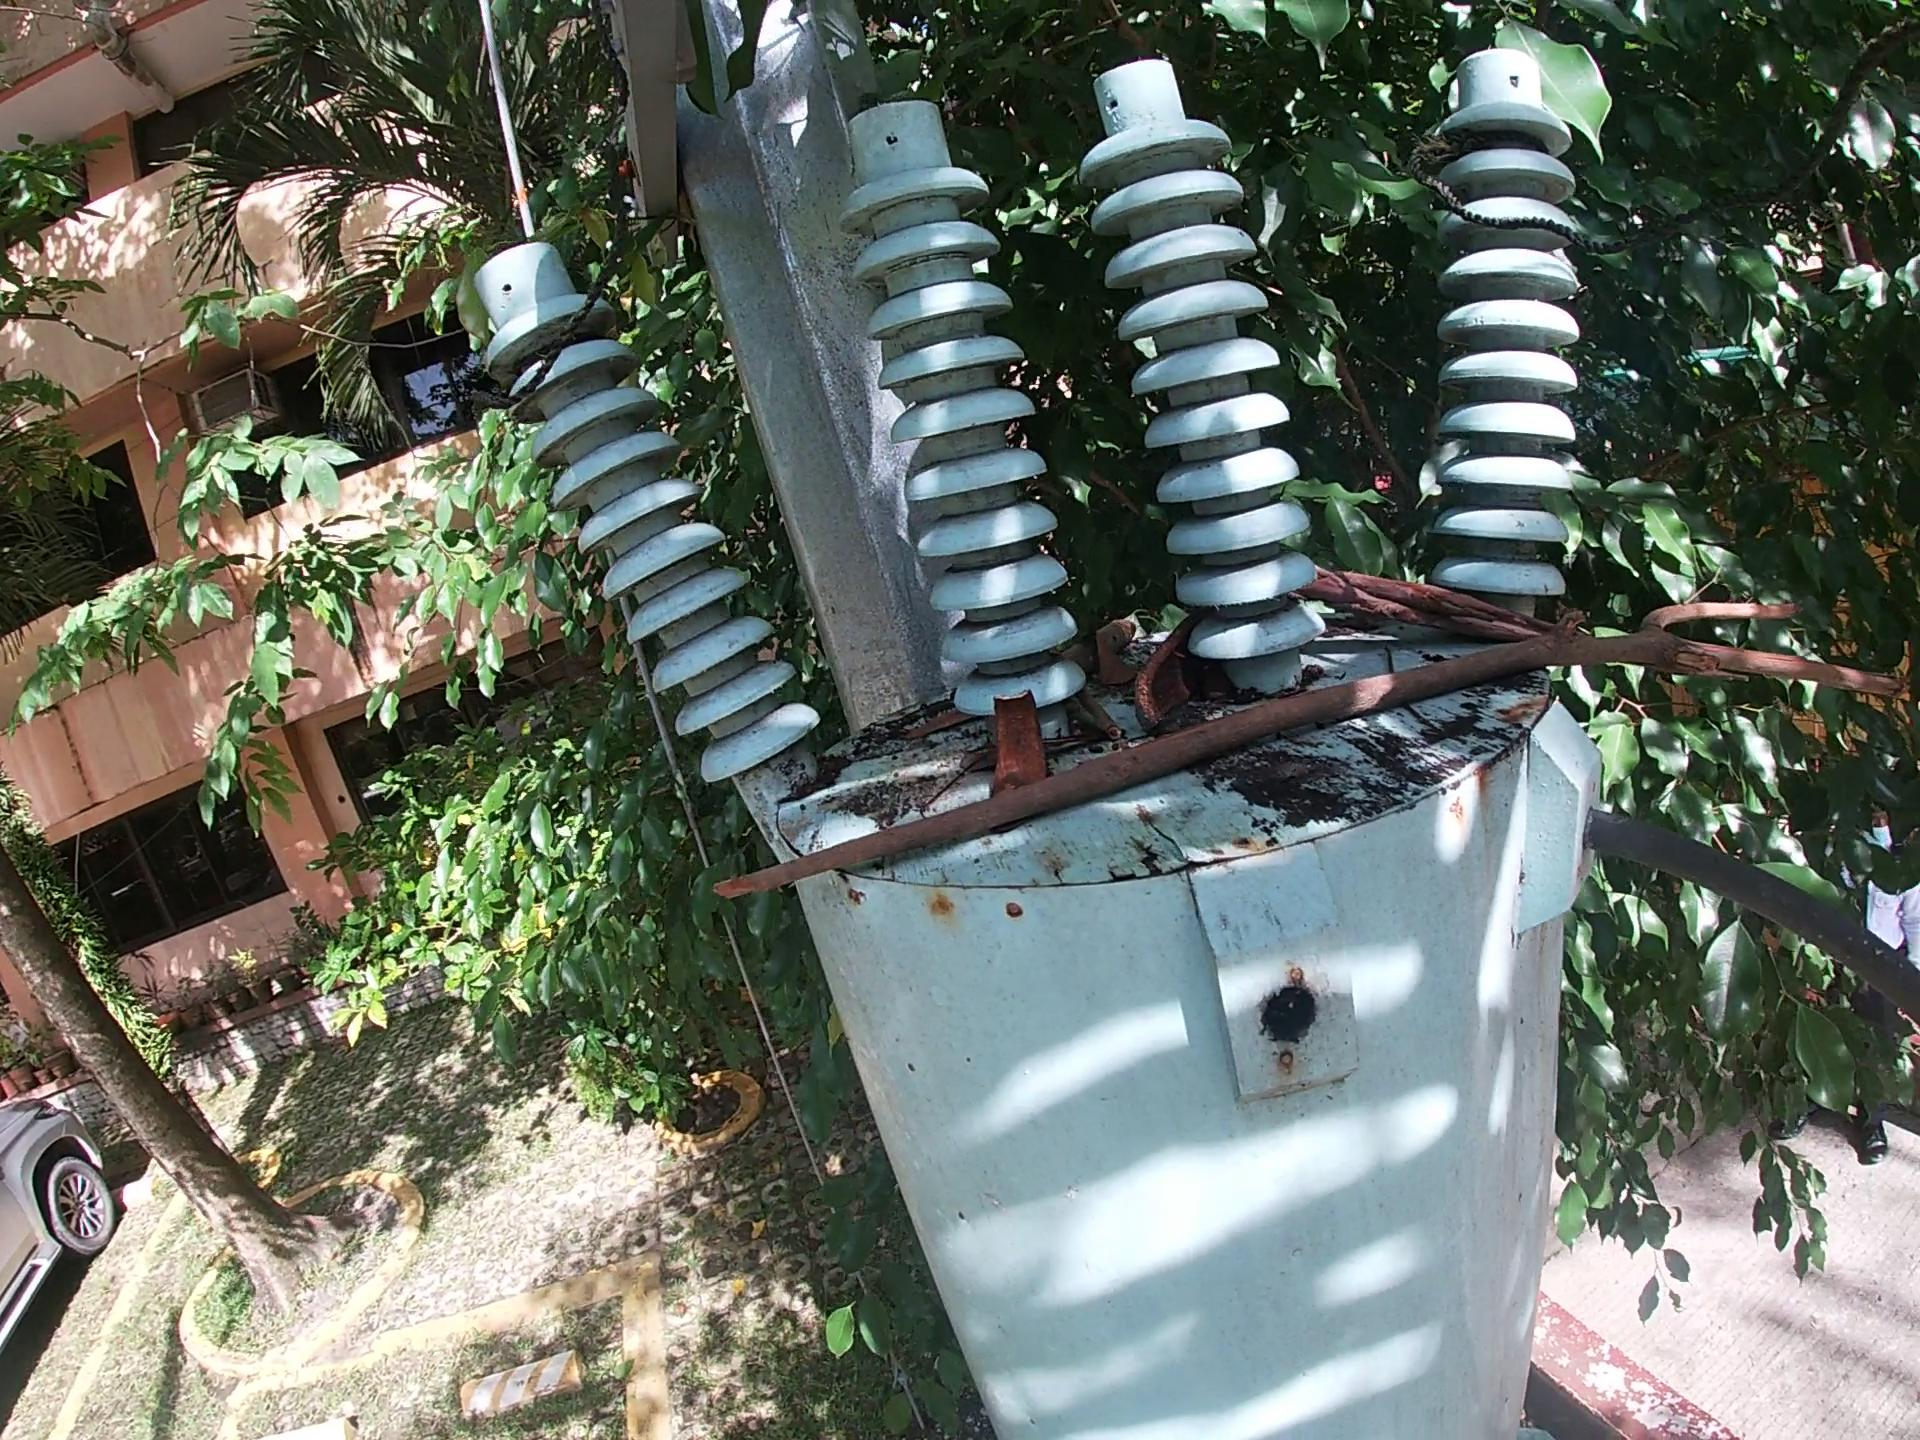leaf: (886, 702, 980, 750), (1089, 632, 1138, 691)
mahogany fruit: (1129, 613, 1200, 737), (986, 690, 1048, 790)
tree branch: (701, 587, 1917, 920), (1284, 554, 1751, 694), (1061, 610, 1137, 684)
